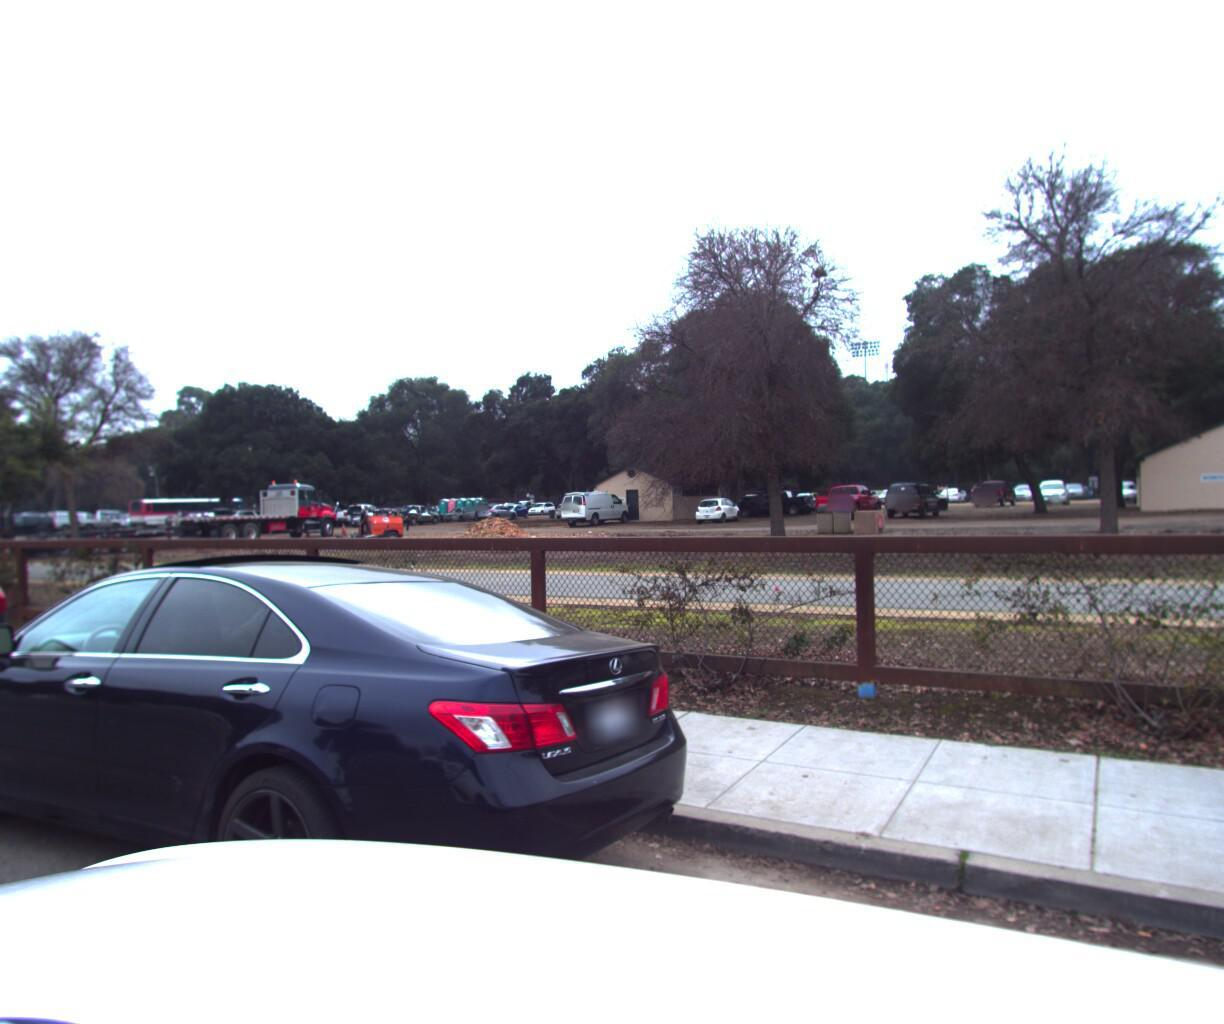car: (0, 539, 732, 1024), (0, 505, 45, 780)
